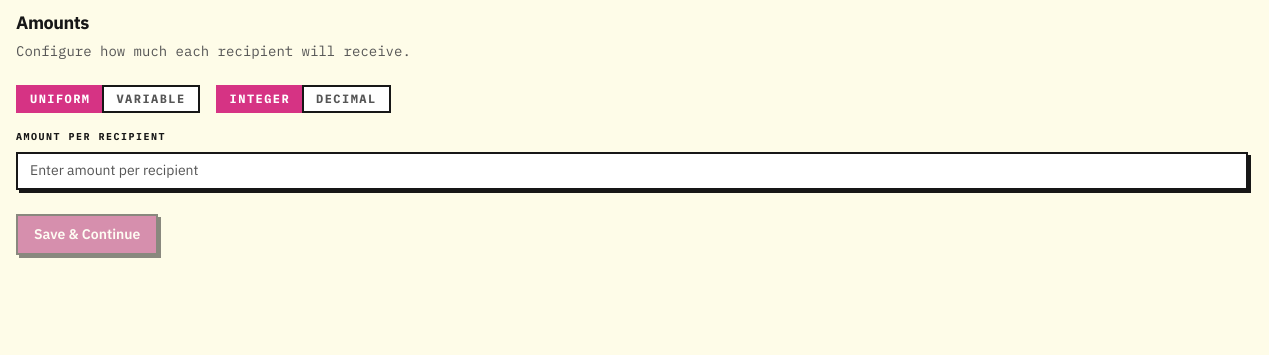
Test: AmountsStep › enables continue when uniform amount is entered
Type "1000" into the field with placeholder "Enter amount per recipient". click: (632, 171)
box: [16, 152, 1248, 190]
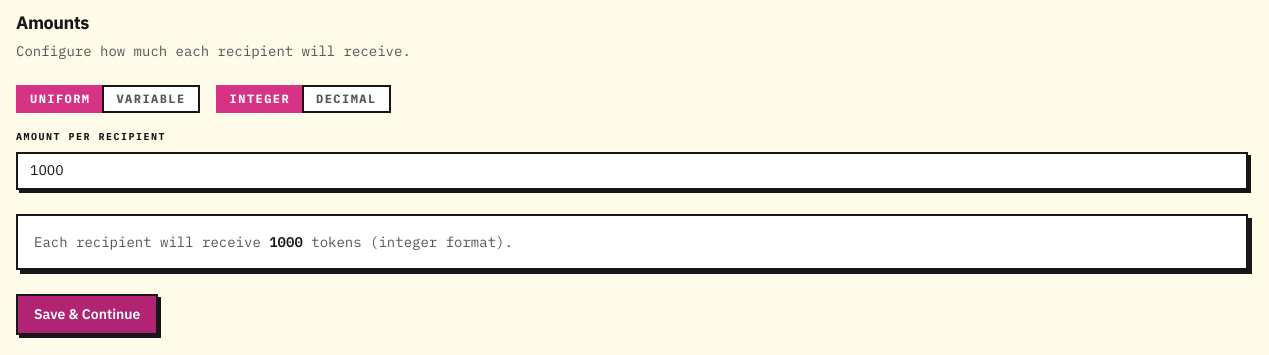
Now the button "Save & Continue" is enabled, box [16, 294, 158, 335]
